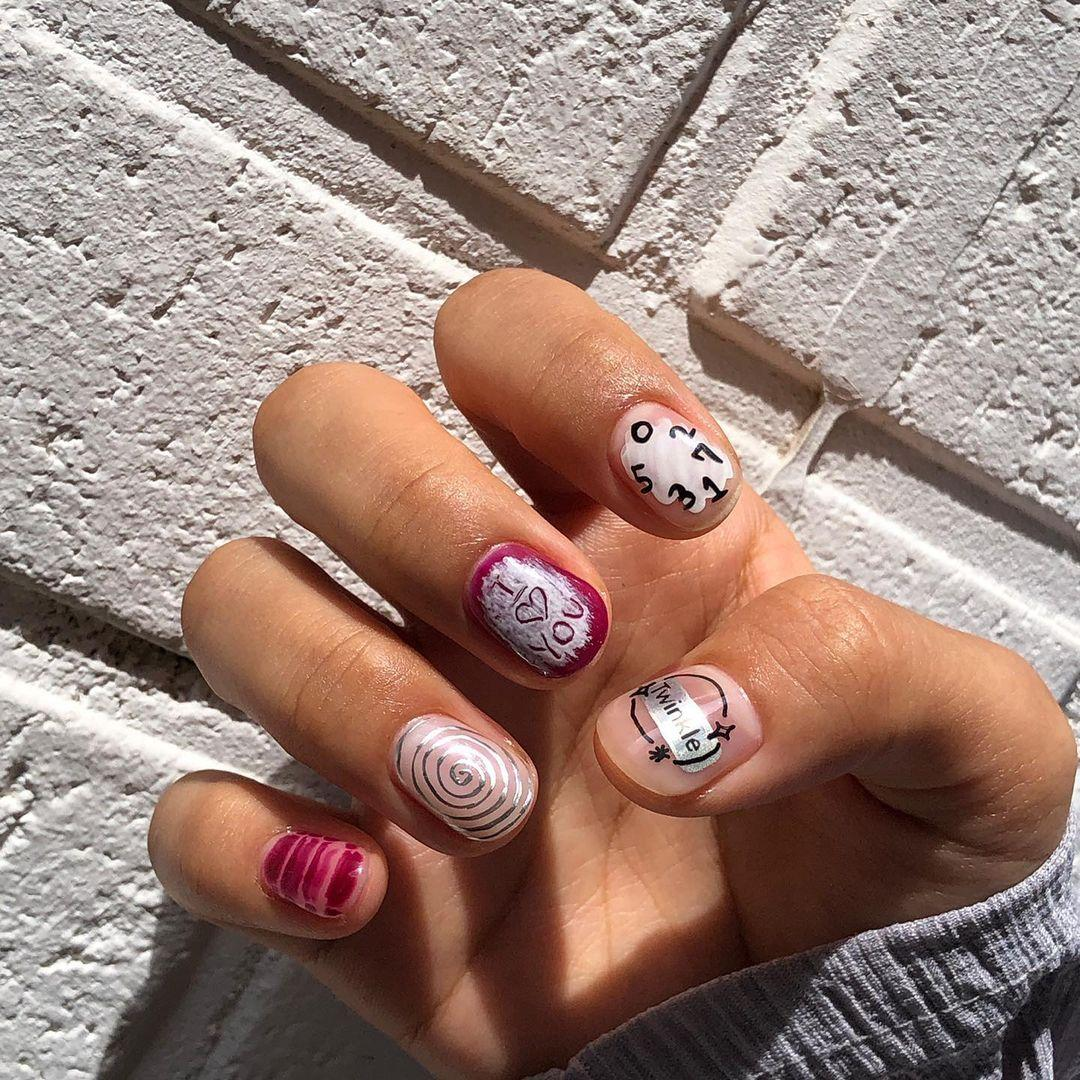nail: (591, 662, 764, 809), (462, 539, 610, 681), (388, 710, 538, 847), (608, 402, 740, 534), (257, 829, 367, 920)
